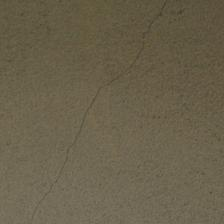Crack: (5, 22, 145, 96), (0, 65, 109, 105)
